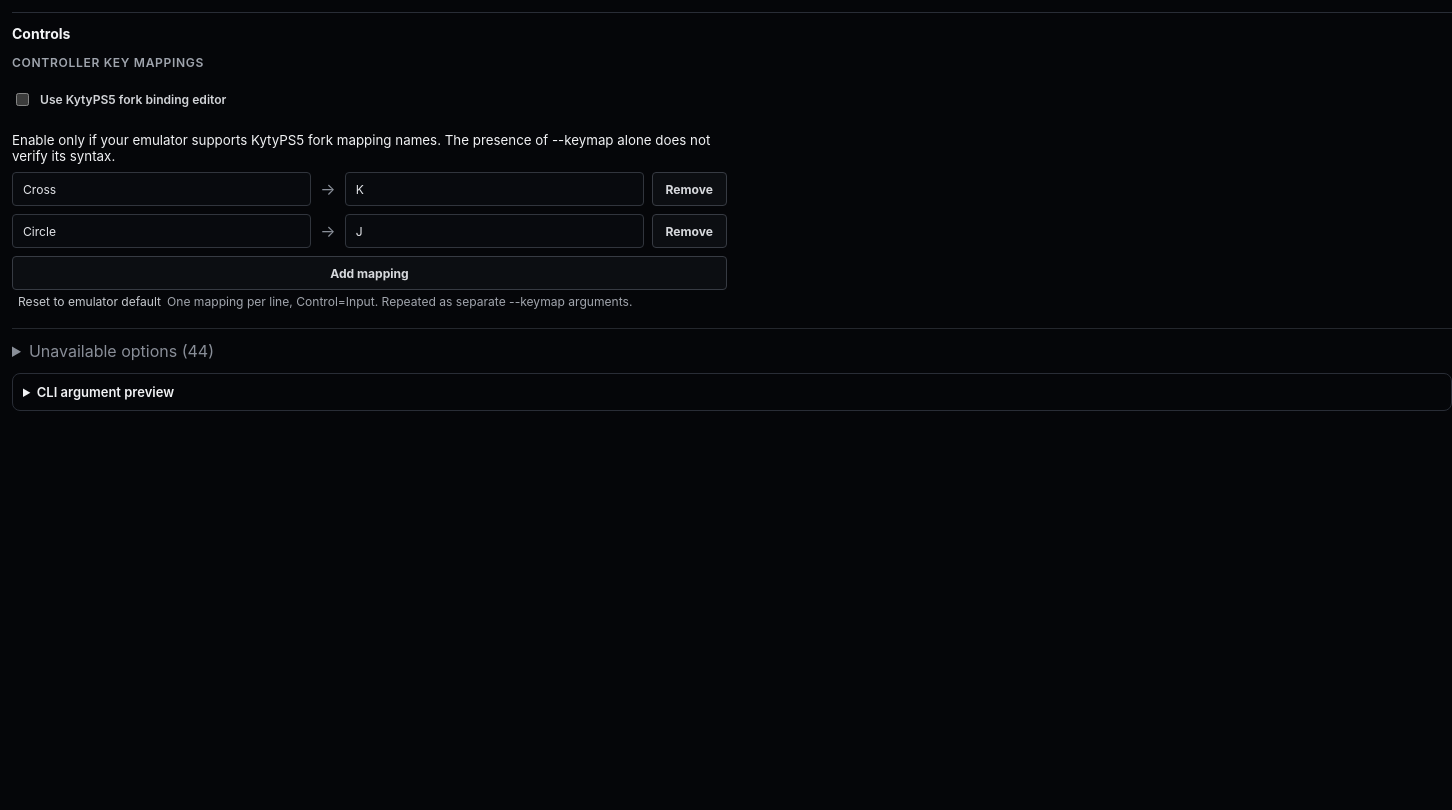
Test: ProfileOptionFields › previews repeated keymap entries as separate CLI arguments
The width and height of the screenshot is (1452, 810).
Click the heading "CLI argument preview" at (105, 392), box [37,384,174,400]
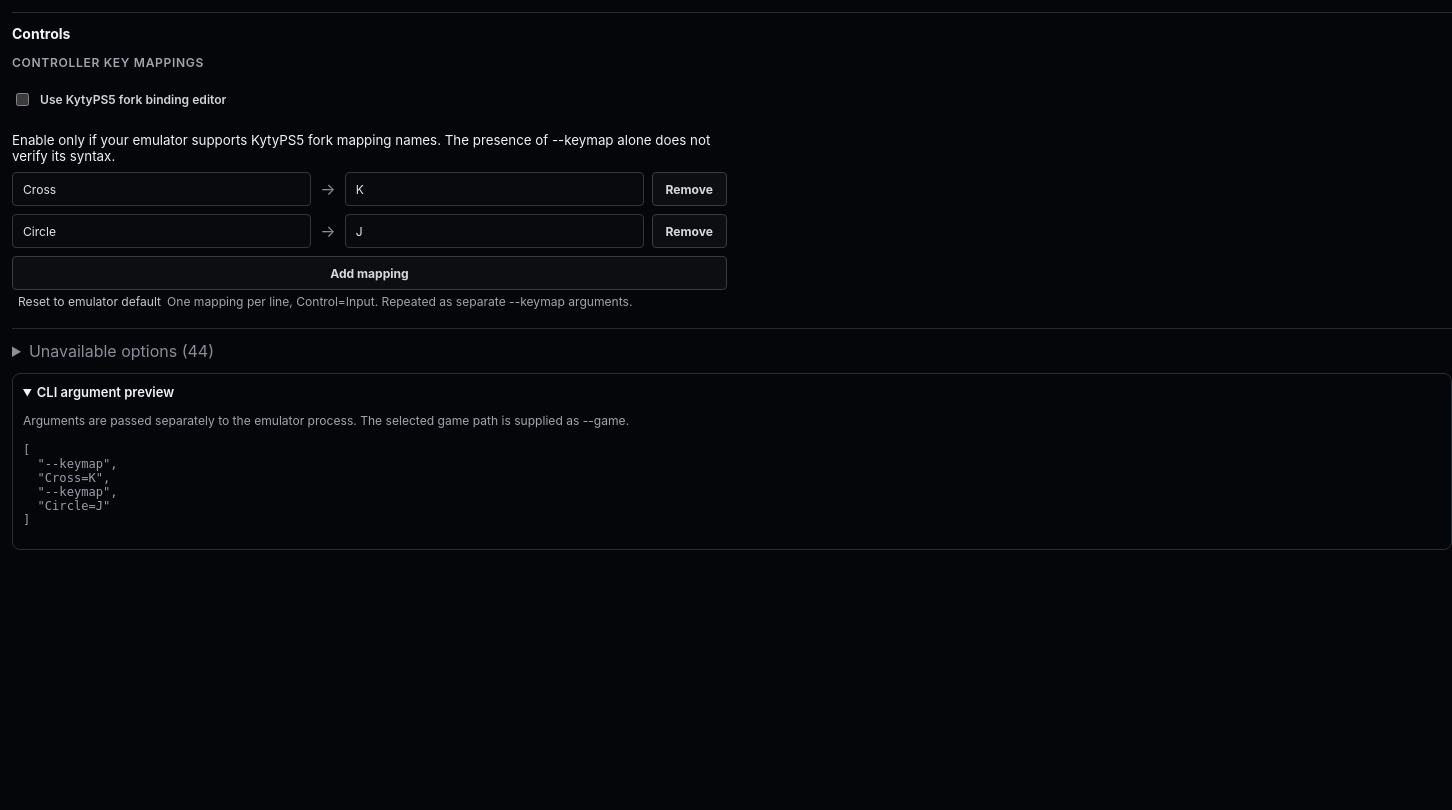
Expected: the text "Arguments are passed separately" is shown, [23,413,629,428]
